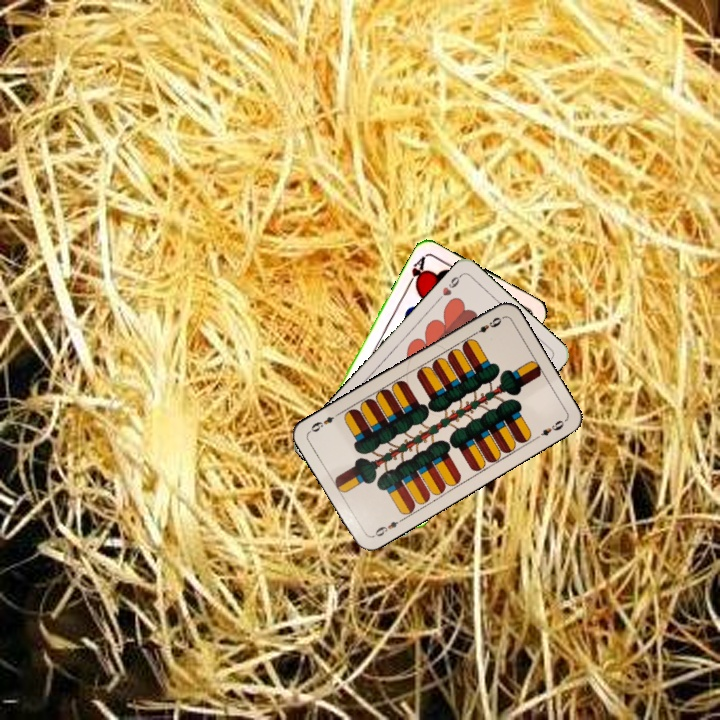E9: (468, 313, 505, 339), (369, 514, 406, 540)
H9: (433, 271, 464, 304)
HA: (404, 251, 429, 291)
